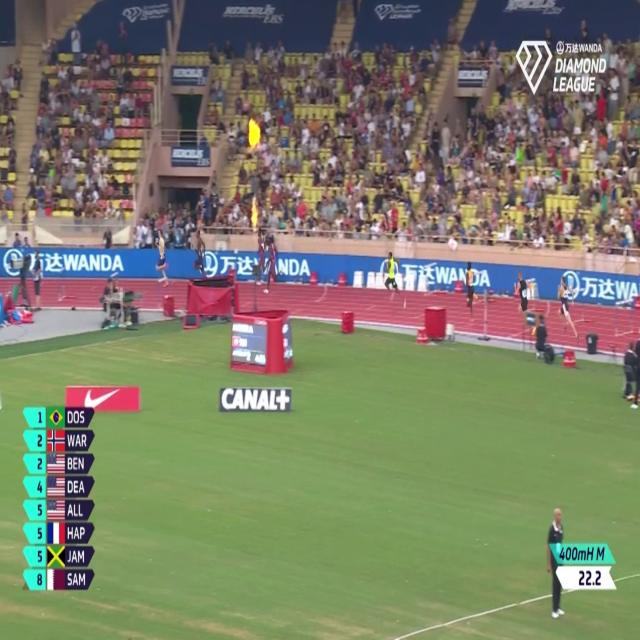athlete: (377, 247, 413, 314), (553, 274, 583, 348), (264, 228, 287, 293), (512, 268, 534, 332), (153, 225, 173, 292), (462, 256, 482, 323), (250, 227, 268, 290), (192, 224, 209, 281)
hurdle: (612, 294, 636, 343), (566, 281, 591, 326), (55, 267, 74, 311), (157, 271, 172, 300), (107, 268, 123, 284)
